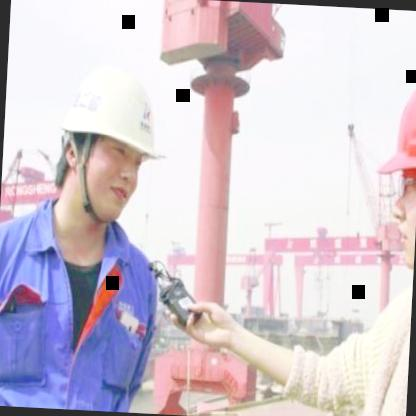helmet: (44, 44, 172, 242), (363, 31, 416, 299)
